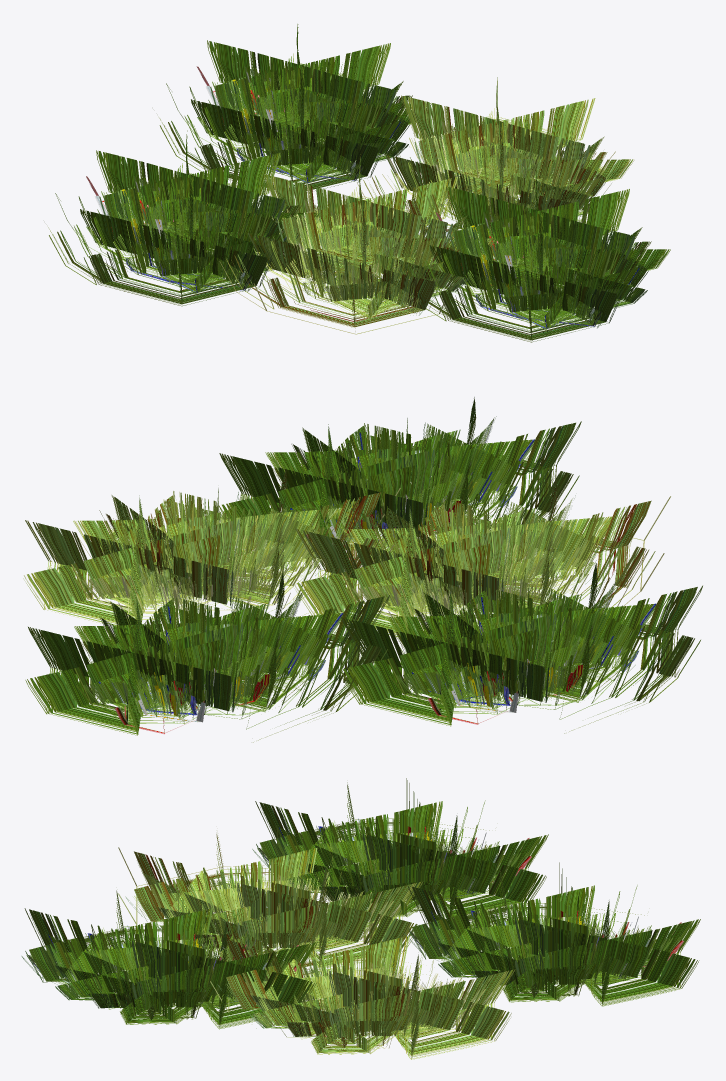
File: grass1.gltf
The picture shows the model from 3 angles, top to bottom: view 1: azimuth 30°, elevation 25°; view 2: azimuth 150°, elevation 25°; view 3: azimuth 270°, elevation 25°; orthographic projection. The views are drawn at different scales.
Visible parts, largest first — view 1: grass2_prim3_94_StaticMeshComponent0, grass2_prim1_98_StaticMeshComponent0, grass2_prim4_92_StaticMeshComponent0, grass2_prim2_96_StaticMeshComponent0, grass2_prim0_100_StaticMeshComponent0; view 2: grass2_prim1_98_StaticMeshComponent0, grass2_prim4_92_StaticMeshComponent0, grass2_prim2_96_StaticMeshComponent0, grass2_prim0_100_StaticMeshComponent0, grass2_prim3_94_StaticMeshComponent0; view 3: grass2_prim4_92_StaticMeshComponent0, grass2_prim0_100_StaticMeshComponent0, grass2_prim3_94_StaticMeshComponent0, grass2_prim1_98_StaticMeshComponent0, grass2_prim2_96_StaticMeshComponent0.
Part boxes in pixels (x1=…): grass2_prim3_94_StaticMeshComponent0: x1=398, y1=167, x2=670, y2=342; grass2_prim1_98_StaticMeshComponent0: x1=48, y1=130, x2=319, y2=306; grass2_prim4_92_StaticMeshComponent0: x1=159, y1=24, x2=431, y2=192; grass2_prim2_96_StaticMeshComponent0: x1=219, y1=154, x2=495, y2=334; grass2_prim0_100_StaticMeshComponent0: x1=357, y1=77, x2=634, y2=251; grass2_prim1_98_StaticMeshComponent0: x1=338, y1=560, x2=702, y2=733; grass2_prim4_92_StaticMeshComponent0: x1=25, y1=571, x2=389, y2=742; grass2_prim2_96_StaticMeshComponent0: x1=293, y1=469, x2=670, y2=638; grass2_prim0_100_StaticMeshComponent0: x1=23, y1=461, x2=400, y2=628; grass2_prim3_94_StaticMeshComponent0: x1=217, y1=397, x2=581, y2=559; grass2_prim4_92_StaticMeshComponent0: x1=404, y1=862, x2=700, y2=1006; grass2_prim0_100_StaticMeshComponent0: x1=210, y1=916, x2=515, y2=1059; grass2_prim3_94_StaticMeshComponent0: x1=21, y1=885, x2=317, y2=1029; grass2_prim1_98_StaticMeshComponent0: x1=252, y1=778, x2=548, y2=917; grass2_prim2_96_StaticMeshComponent0: x1=118, y1=828, x2=422, y2=971.
Bounding box in the file's own units: 10.11 × 0.8183 × 11.31.
Materials: 5 (5 with a texture image).
